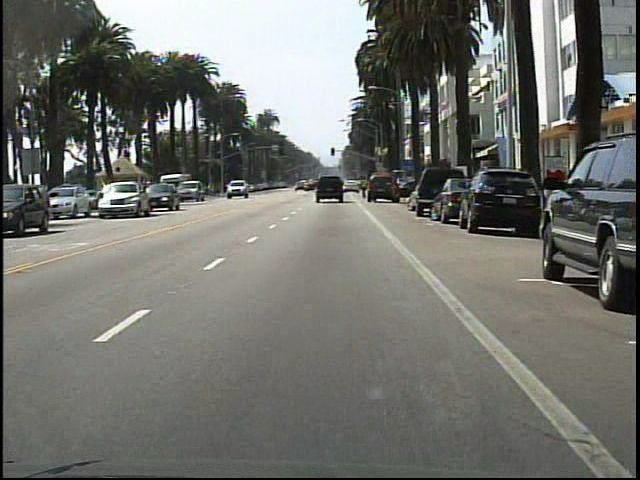person: (358, 174, 370, 201)
